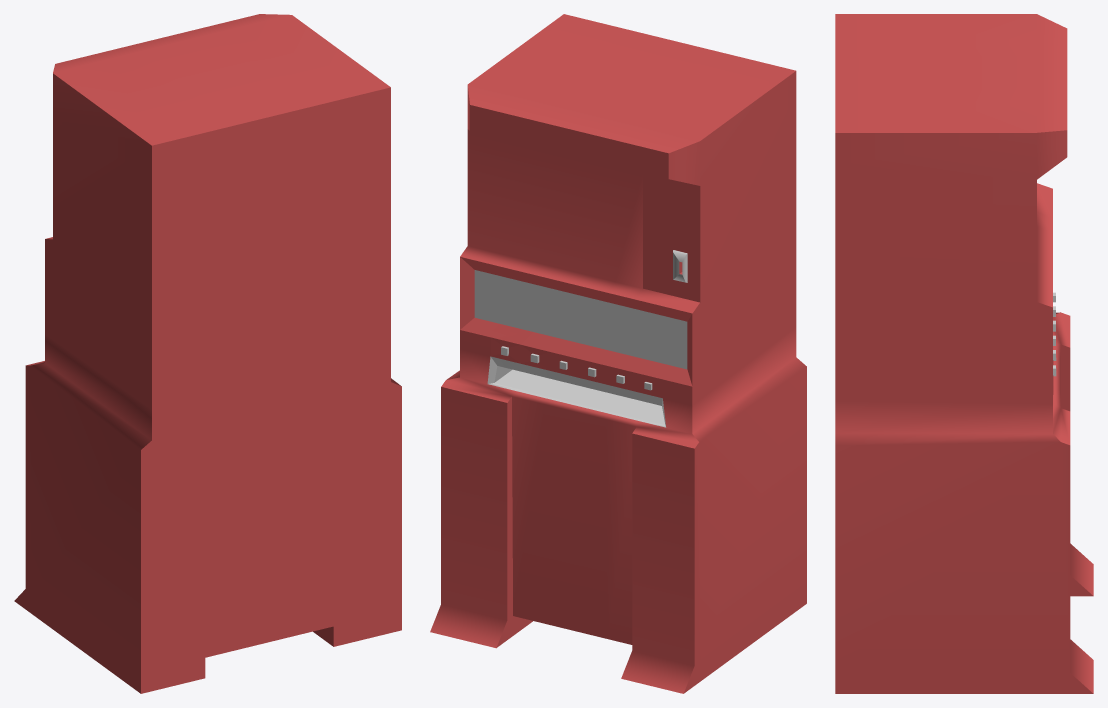
File: vending machine.fbx
3 views of the same model, side by side, from view 1: azimuth 30°, elevation 25°; view 2: azimuth 150°, elevation 25°; view 3: azimuth 270°, elevation 25° (orthographic). The views are drawn at different scales.
Parts seen in each view (by area): view 1: pCube1; view 2: pCube1; view 3: pCube1.
Boxes of the visible parts, x1,y1,x2,y2 form: pCube1: (14, 14, 401, 693); pCube1: (430, 14, 806, 693); pCube1: (835, 14, 1093, 693).
Size of the model in its own units: 1.09 by 2.18 by 0.9193.
